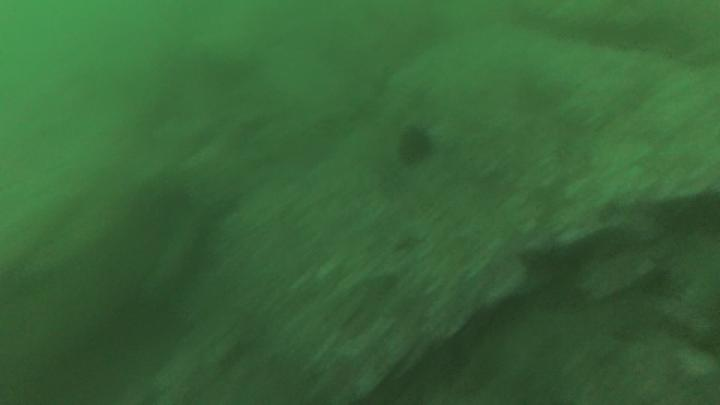echinus: (398, 127, 432, 164)
